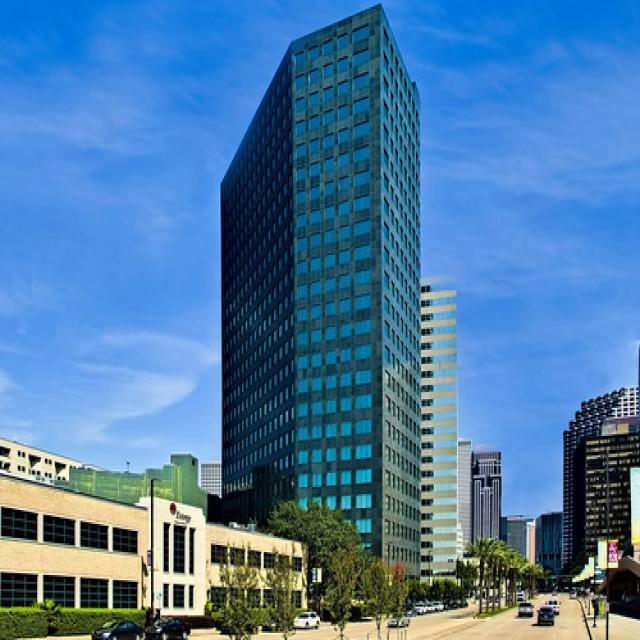building: (213, 3, 424, 616)
